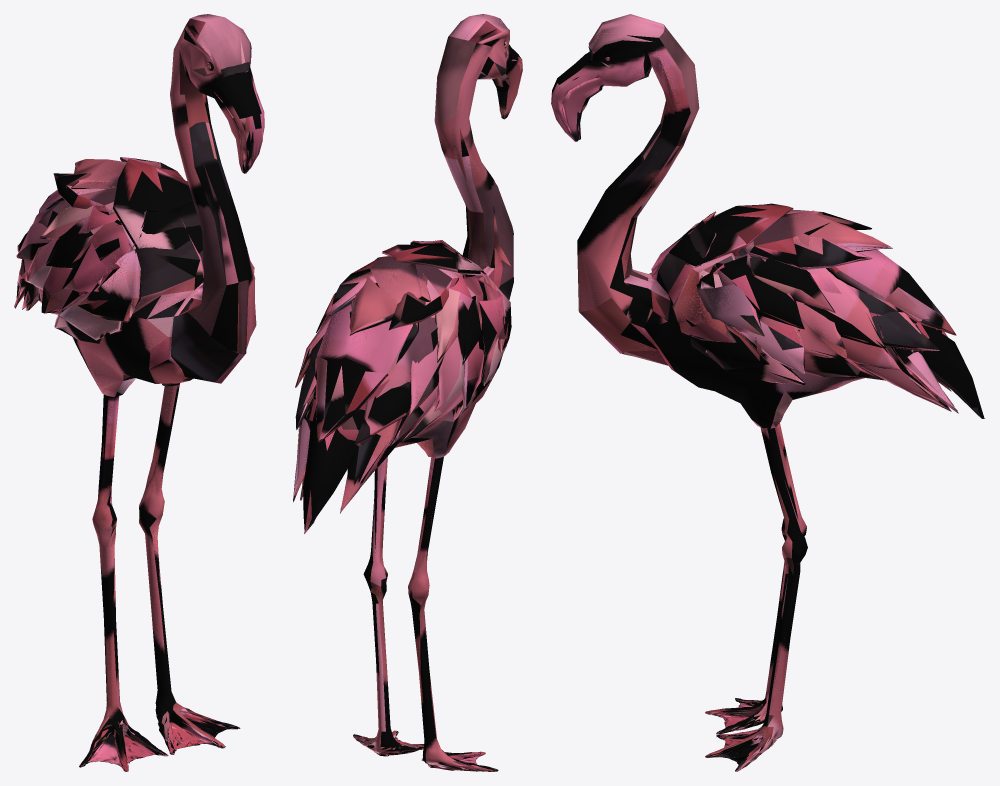
Rendered from creature_flamingo.fbx.
3 renders of one model, left to right at view 1: azimuth 30°, elevation 25°; view 2: azimuth 150°, elevation 25°; view 3: azimuth 270°, elevation 25°, orthographic. The views are drawn at different scales.
Visible parts, largest first — view 1: creature_flamingo_head, creature_flamingo_leg_br, creature_flamingo_body, creature_flamingo_leg_fr, creature_flamingo_leg_fl; view 2: creature_flamingo_head, creature_flamingo_leg_br, creature_flamingo_body, creature_flamingo_tail, creature_flamingo_leg_fr, creature_flamingo_leg_fl, creature_flamingo_leg_bl; view 3: creature_flamingo_head, creature_flamingo_leg_bl, creature_flamingo_body, creature_flamingo_leg_fl, creature_flamingo_tail, creature_flamingo_leg_fr.
Boxes of the visible parts, left/top/right/bottom form: creature_flamingo_head: left=72, top=14, right=264, bottom=354; creature_flamingo_leg_br: left=16, top=173, right=173, bottom=397; creature_flamingo_body: left=26, top=157, right=253, bottom=396; creature_flamingo_leg_fr: left=26, top=307, right=168, bottom=771; creature_flamingo_leg_fl: left=25, top=304, right=240, bottom=754; creature_flamingo_head: left=382, top=14, right=522, bottom=347; creature_flamingo_leg_br: left=358, top=273, right=511, bottom=485; creature_flamingo_body: left=303, top=244, right=513, bottom=485; creature_flamingo_tail: left=293, top=362, right=385, bottom=532; creature_flamingo_leg_fr: left=304, top=457, right=498, bottom=771; creature_flamingo_leg_fl: left=304, top=456, right=423, bottom=756; creature_flamingo_leg_bl: left=295, top=257, right=380, bottom=471; creature_flamingo_head: left=551, top=14, right=769, bottom=334; creature_flamingo_leg_bl: left=644, top=237, right=938, bottom=428; creature_flamingo_body: left=579, top=203, right=943, bottom=427; creature_flamingo_leg_fl: left=705, top=408, right=984, bottom=771; creature_flamingo_tail: left=898, top=287, right=981, bottom=417; creature_flamingo_leg_fr: left=705, top=423, right=806, bottom=734.
Bounding box in the file's own units: 184 × 804 × 441.
Materials: 1 (1 with a texture image).
